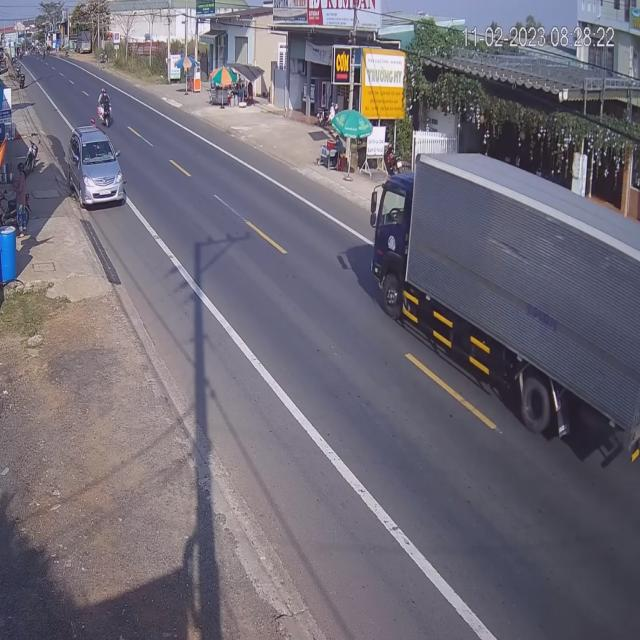car: (68, 128, 124, 211)
motorbike: (96, 86, 110, 125)
truck: (372, 152, 640, 455)
